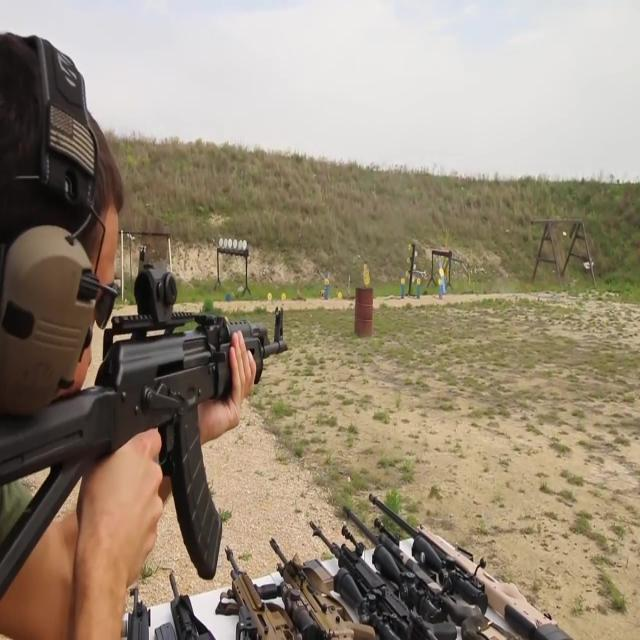Weapon: (0, 118, 287, 590), (59, 424, 568, 640)
